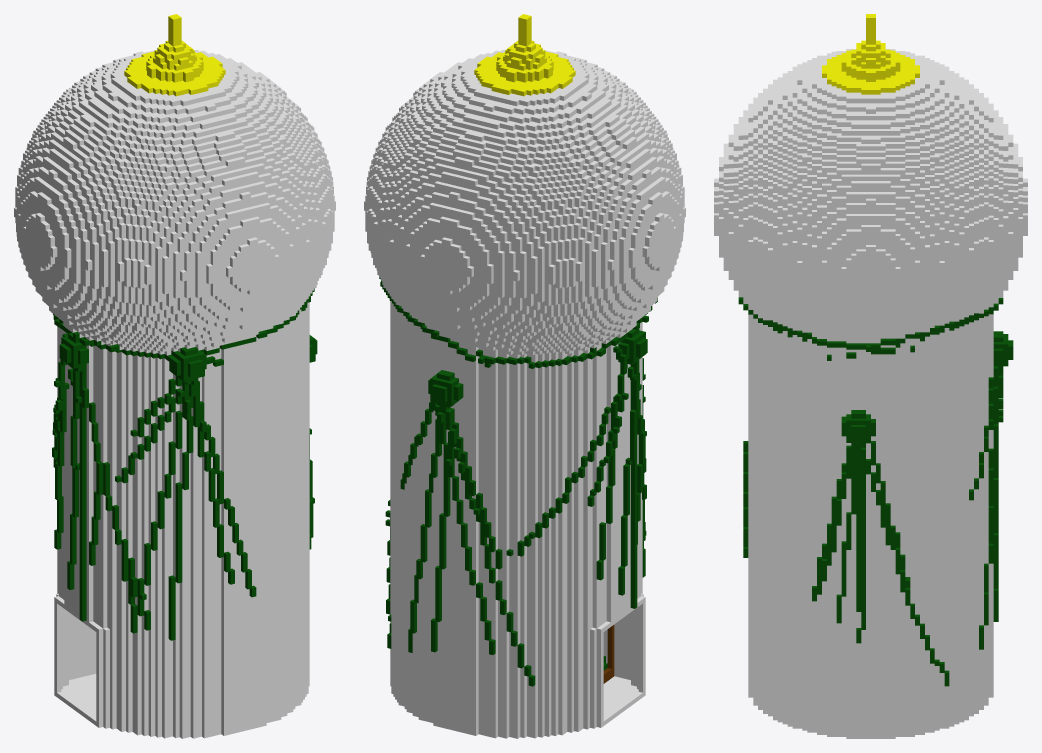
The model's file is magic_tower.glb.
3 renders of one model, left to right at view 1: azimuth 30°, elevation 25°; view 2: azimuth 150°, elevation 25°; view 3: azimuth 270°, elevation 25°, orthographic.
Visible parts, largest first — view 1: Untitled; view 2: Untitled; view 3: Untitled.
Part boxes in pixels (box(x1,y1,x2,y2)): Untitled: box(14, 14, 335, 738); Untitled: box(364, 14, 685, 738); Untitled: box(714, 14, 1027, 738).
Bounding box in the file's own units: 6.4 × 15 × 6.4.
Materials: 1 (1 with a texture image).
